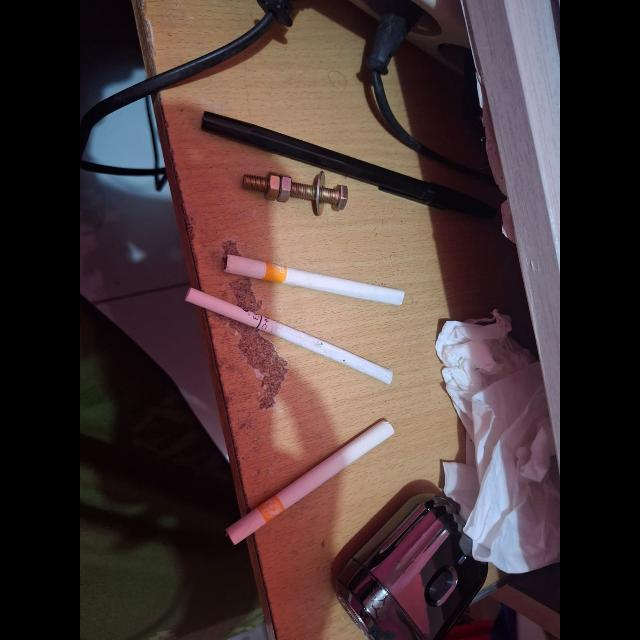rokok: (224, 418, 398, 546), (188, 286, 398, 392), (224, 248, 408, 310)
